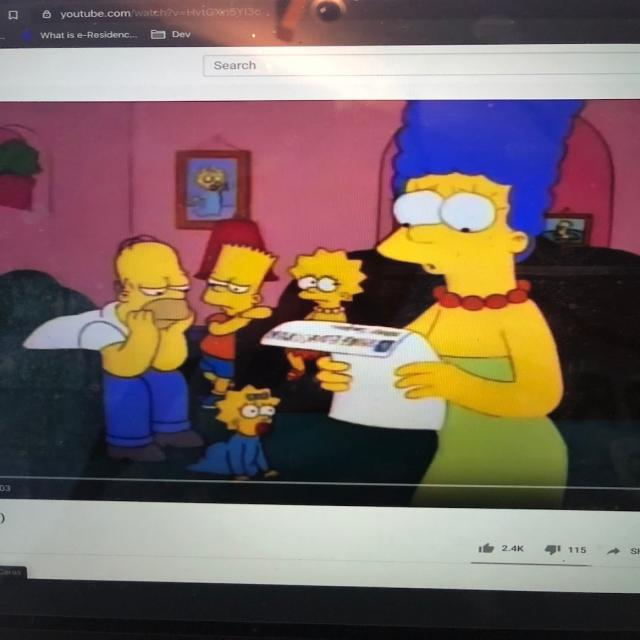Bart Simpson: (200, 242, 283, 320)
Homer Simpson: (110, 233, 196, 337)
Lisa Simpson: (288, 245, 371, 315)
Maggie Simpson: (210, 382, 282, 438)
Marge Simpson: (372, 98, 591, 312)
